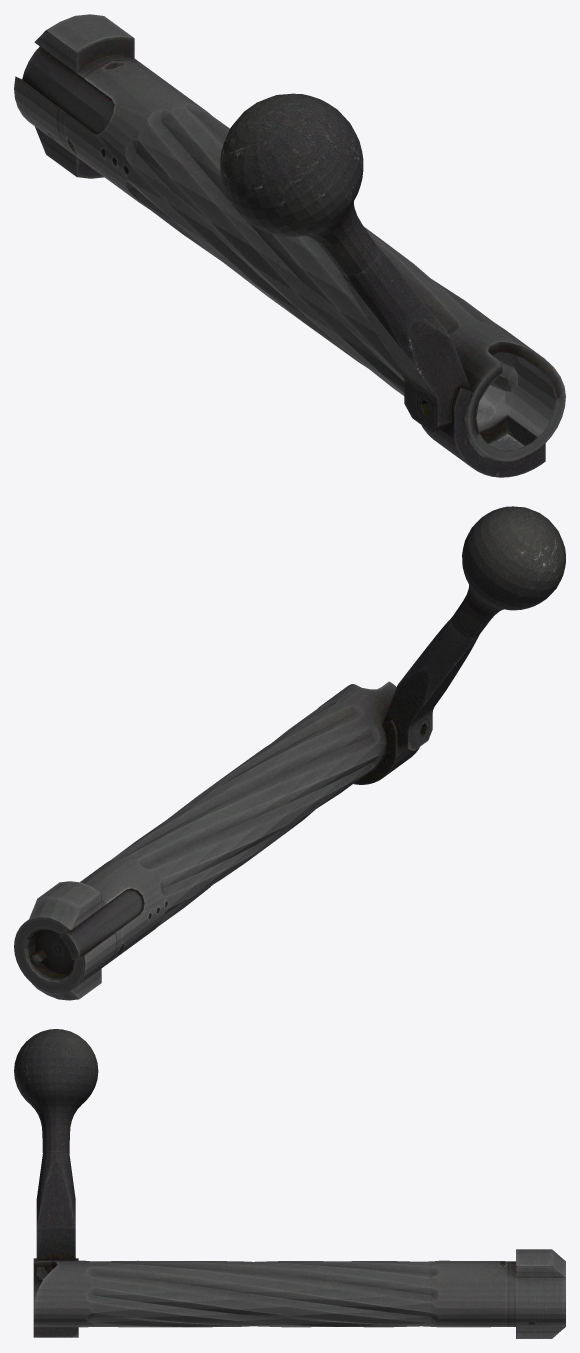
3 views of the same model, one above another, from view 1: azimuth 30°, elevation 25°; view 2: azimuth 150°, elevation 25°; view 3: azimuth 270°, elevation 25° (orthographic). The views are drawn at different scales.
Visible parts, largest first — view 1: TW_5df24cf80dee1b22f862e9bc_PZ_Import; view 2: TW_5df24cf80dee1b22f862e9bc_PZ_Import; view 3: TW_5df24cf80dee1b22f862e9bc_PZ_Import.
Boxes of the visible parts, <box> form: TW_5df24cf80dee1b22f862e9bc_PZ_Import: <box>14,14,565,477</box>; TW_5df24cf80dee1b22f862e9bc_PZ_Import: <box>14,506,565,1000</box>; TW_5df24cf80dee1b22f862e9bc_PZ_Import: <box>14,1029,565,1338</box>.
Size of the model in its own units: 0.0362 by 0.0929 by 0.0451.
Materials: 1 (1 with a texture image).
